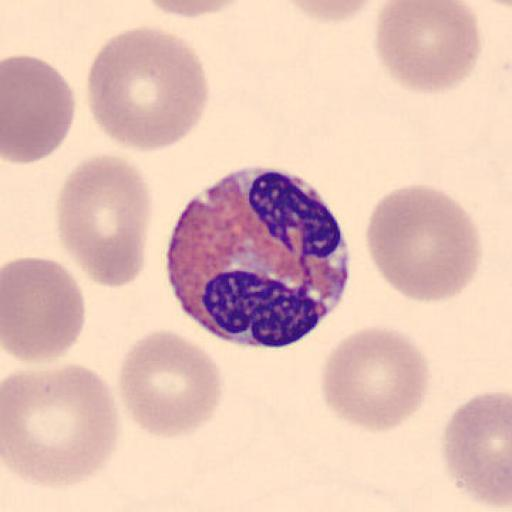RBC: (85, 24, 211, 154), (1, 362, 121, 489), (365, 182, 483, 306), (54, 152, 154, 290), (319, 322, 432, 434), (116, 328, 225, 441), (373, 0, 482, 95), (2, 255, 86, 363), (441, 388, 512, 510), (2, 53, 76, 166), (275, 0, 383, 24), (138, 0, 252, 20)
WBC: (164, 163, 351, 348)
